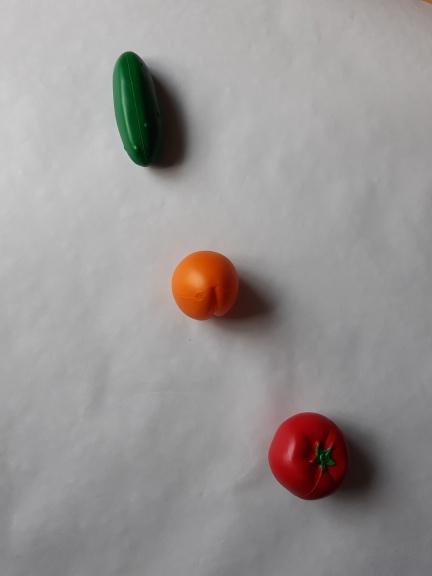apricot: (162, 245, 246, 325)
cucumber: (107, 47, 169, 177)
tomato: (259, 404, 357, 504)
